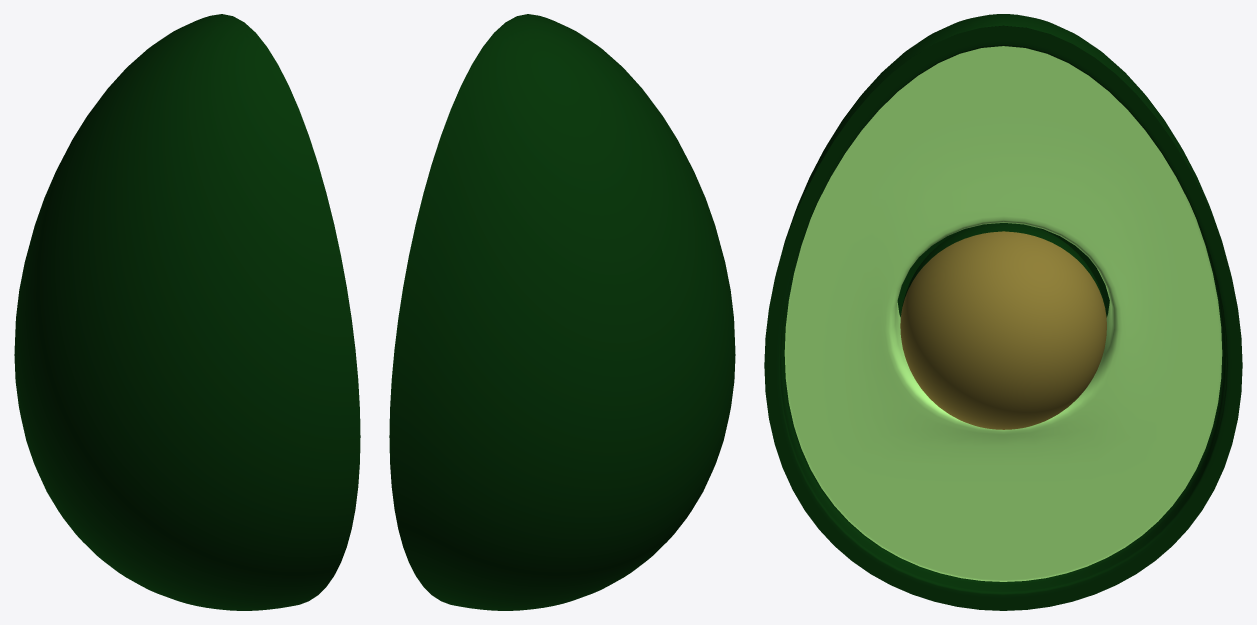
The model's file is avacado.fbx.
3 renders of one model, left to right at view 1: azimuth 30°, elevation 25°; view 2: azimuth 150°, elevation 25°; view 3: azimuth 270°, elevation 25°, orthographic. The views are drawn at different scales.
Visible parts, largest first — view 1: Sphere; view 2: Sphere; view 3: Sphere.
Boxes of the visible parts, x1,y1,x2,y2 form: Sphere: (14,14,360,610); Sphere: (389,14,735,610); Sphere: (764,14,1242,610).
Size of the model in its own units: 132 by 269 by 199.
